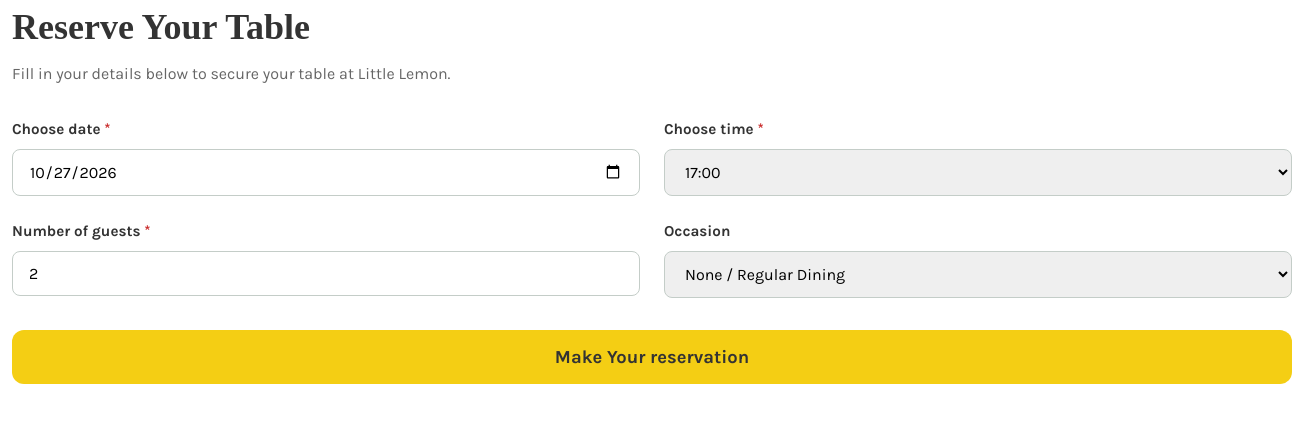
BookingForm Unit Tests › disables submit button and shows error when guests count is invalid
Note: Enter invalid number of guests (0)
Type "0" into the number field labelled "Number of guests *".
click(326, 273); type("0")  # box [12, 251, 640, 296]
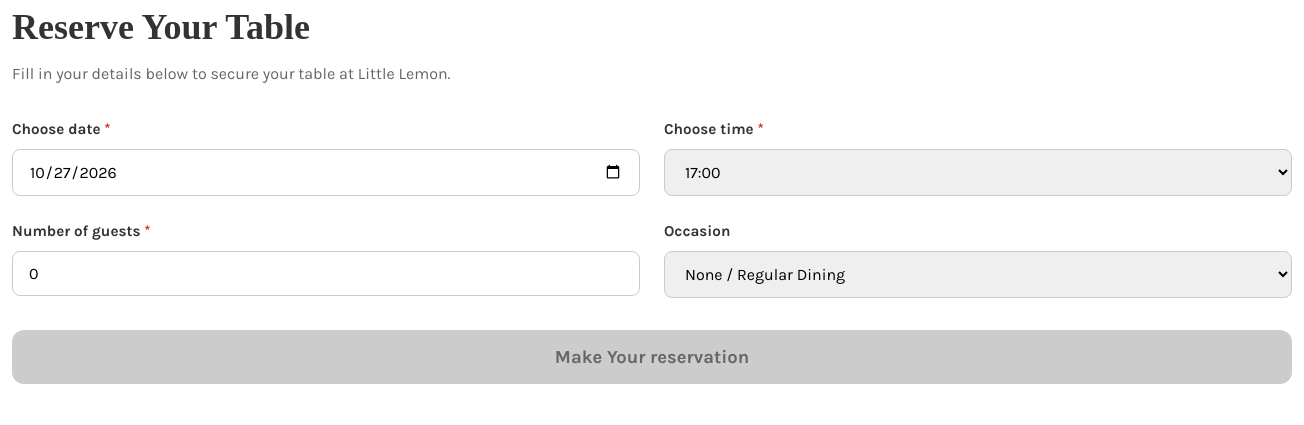
Leave the number field labelled "Number of guests *", box [12, 251, 640, 296]
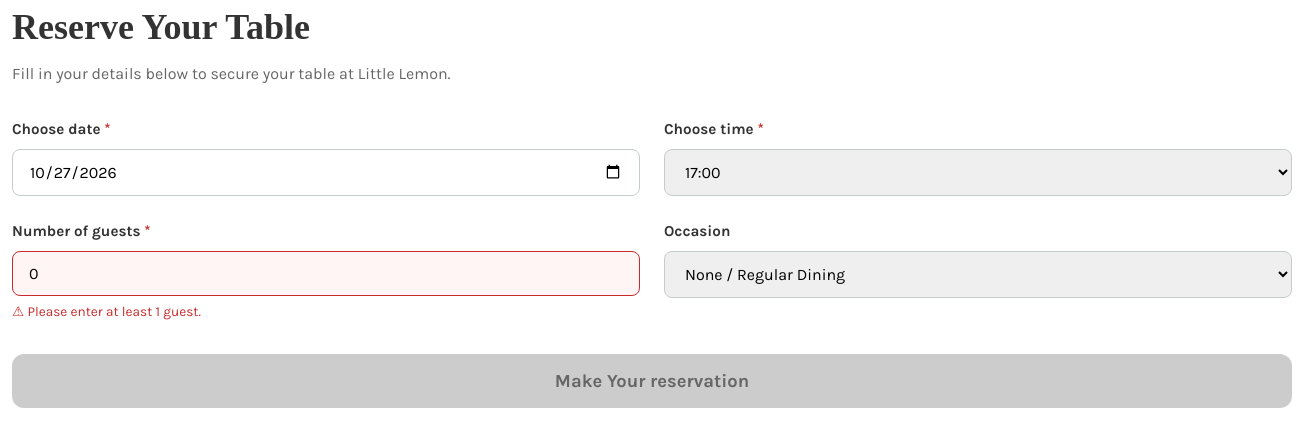
Check: the button "Make Your reservation" is disabled, box [12, 354, 1292, 408]
Check: the message shows "Please enter at least 1 guest", box [27, 304, 201, 319]
Replace the text in the number field labelled "Number of guests *" with "15" at (326, 273), box [12, 251, 640, 296]
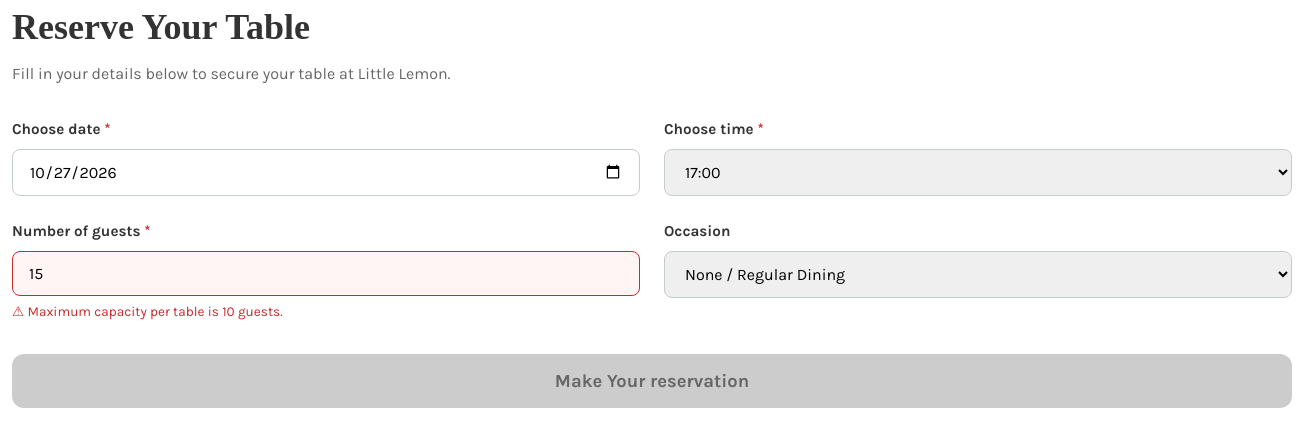
Check: the button "Make Your reservation" is disabled, box [12, 354, 1292, 408]
Check: the message shows "Maximum capacity per table is 10", box [27, 304, 283, 319]
